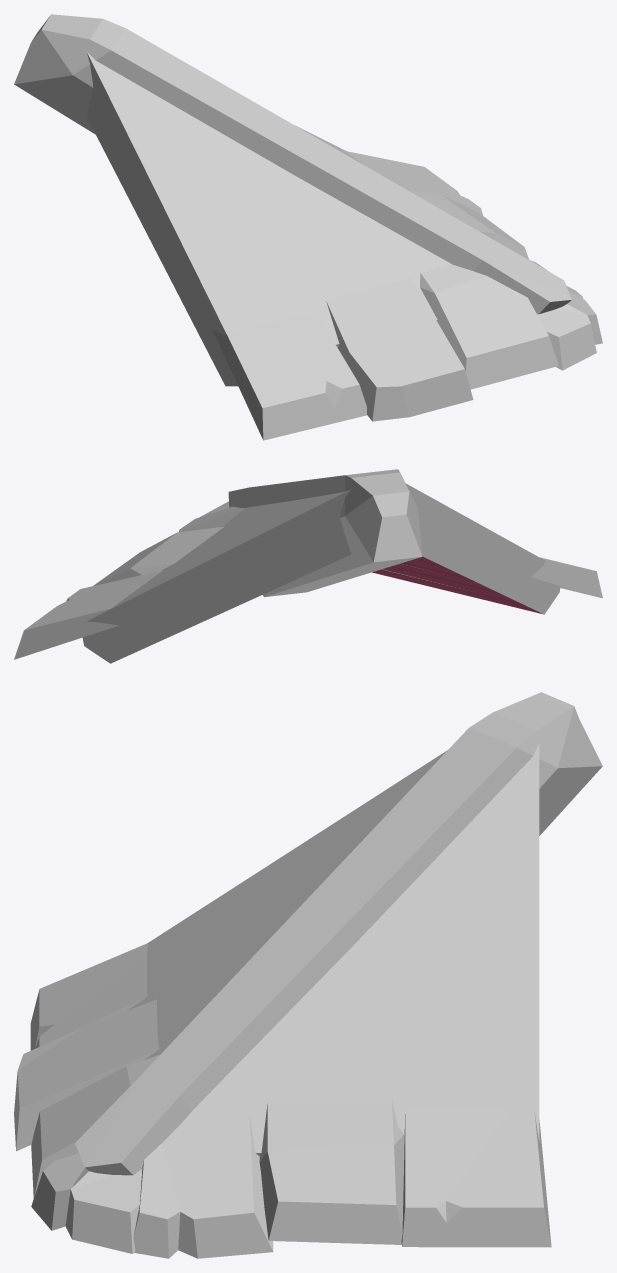
Rendered from SM_Bld_Roof_Trim_Corner_Out_01.fbx.
3 renders of one model, top to bottom at view 1: azimuth 30°, elevation 25°; view 2: azimuth 150°, elevation 25°; view 3: azimuth 270°, elevation 25°, orthographic. The views are drawn at different scales.
Parts seen in each view (by area): view 1: SM_Bld_Roof_Trim_Corner_Out_01; view 2: SM_Bld_Roof_Trim_Corner_Out_01; view 3: SM_Bld_Roof_Trim_Corner_Out_01.
Boxes of the visible parts, x1,y1,x2,y2 form: SM_Bld_Roof_Trim_Corner_Out_01: [14, 14, 602, 440]; SM_Bld_Roof_Trim_Corner_Out_01: [14, 469, 602, 663]; SM_Bld_Roof_Trim_Corner_Out_01: [14, 692, 602, 1258].
Bounding box in the file's own units: 180 × 114 × 181.
